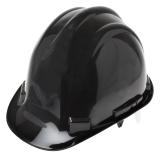Helmet: (0, 1, 160, 156)
